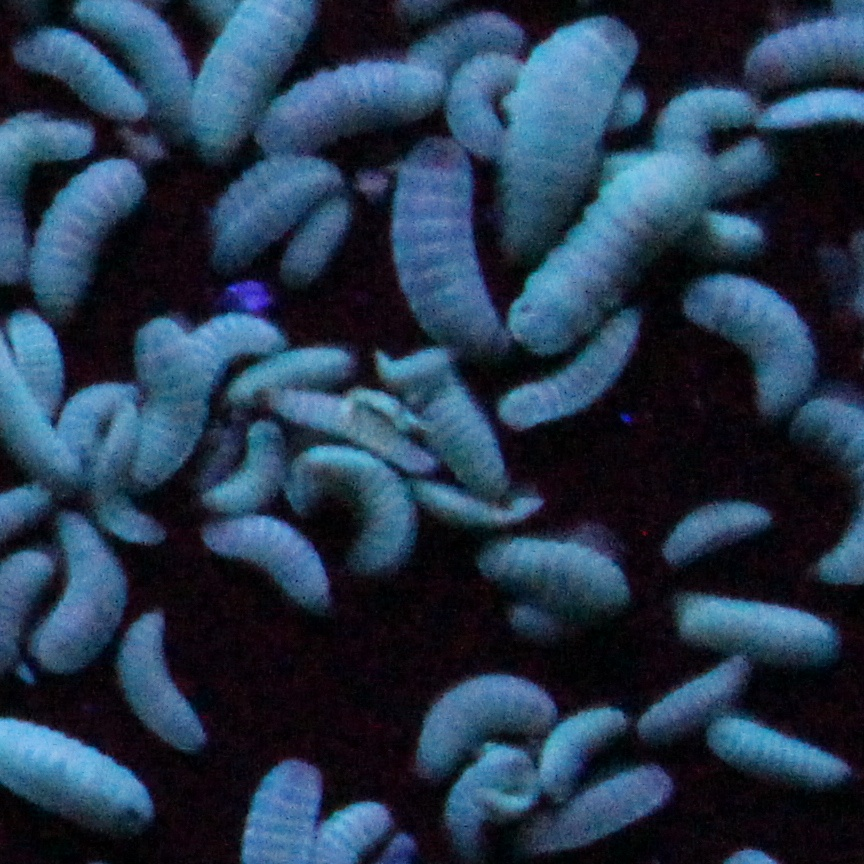larve: (523, 147, 709, 343), (498, 22, 640, 262), (128, 310, 278, 491), (400, 143, 509, 345), (690, 269, 815, 421), (274, 447, 421, 574), (503, 309, 645, 433), (38, 157, 141, 324), (421, 674, 557, 783), (252, 71, 450, 143), (671, 587, 840, 670), (36, 512, 121, 676), (479, 535, 640, 619), (122, 604, 205, 759), (533, 767, 672, 849), (209, 519, 334, 610), (439, 748, 529, 851), (636, 657, 750, 738), (715, 719, 852, 786), (653, 72, 752, 148), (543, 702, 622, 794), (657, 504, 769, 566), (286, 191, 352, 286)
